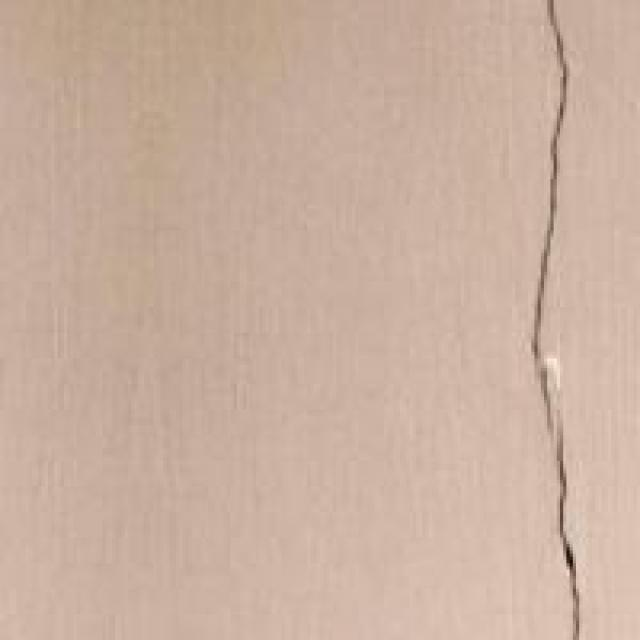Crack: (442, 0, 636, 637)
